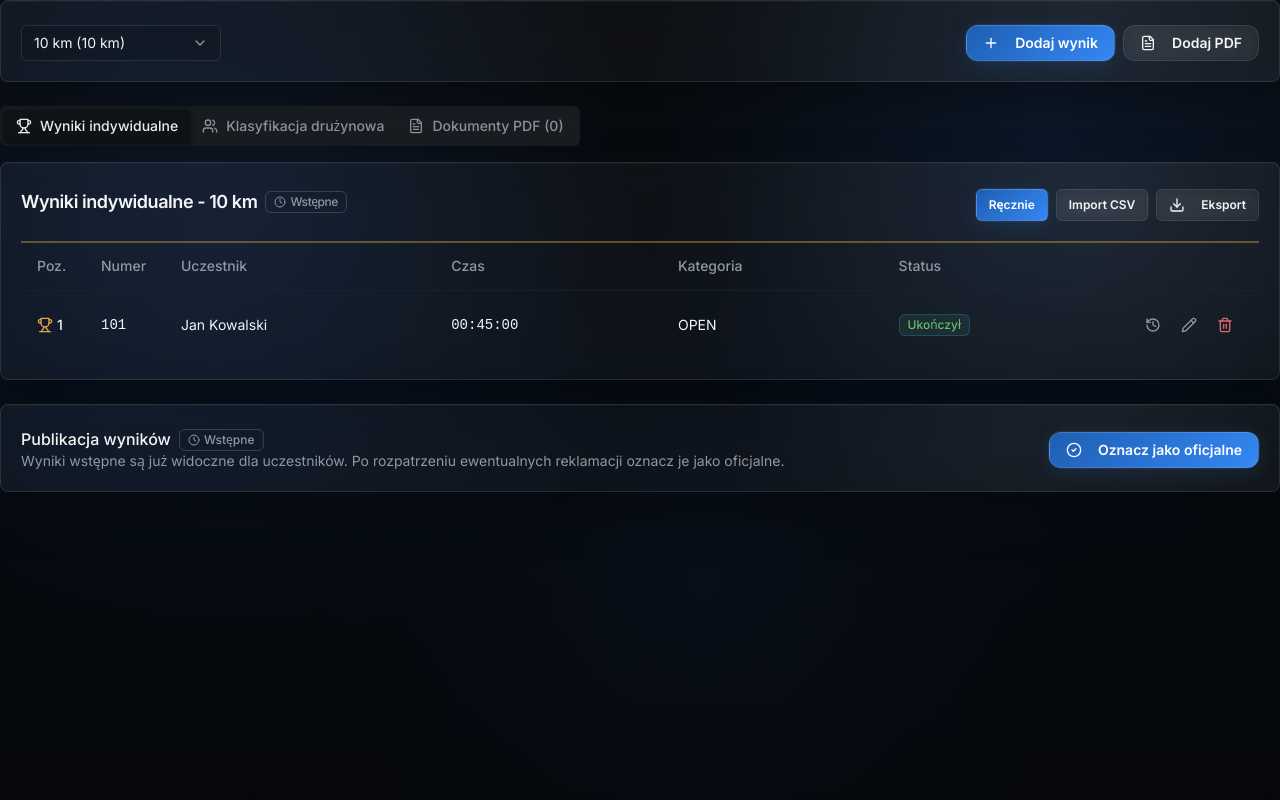
ResultsTab team classification › shows a guidance message instead of the classification for a non-relay distance
Click the tab "Klasyfikacja drużynowa" at (293,126), box [190,110,396,142]
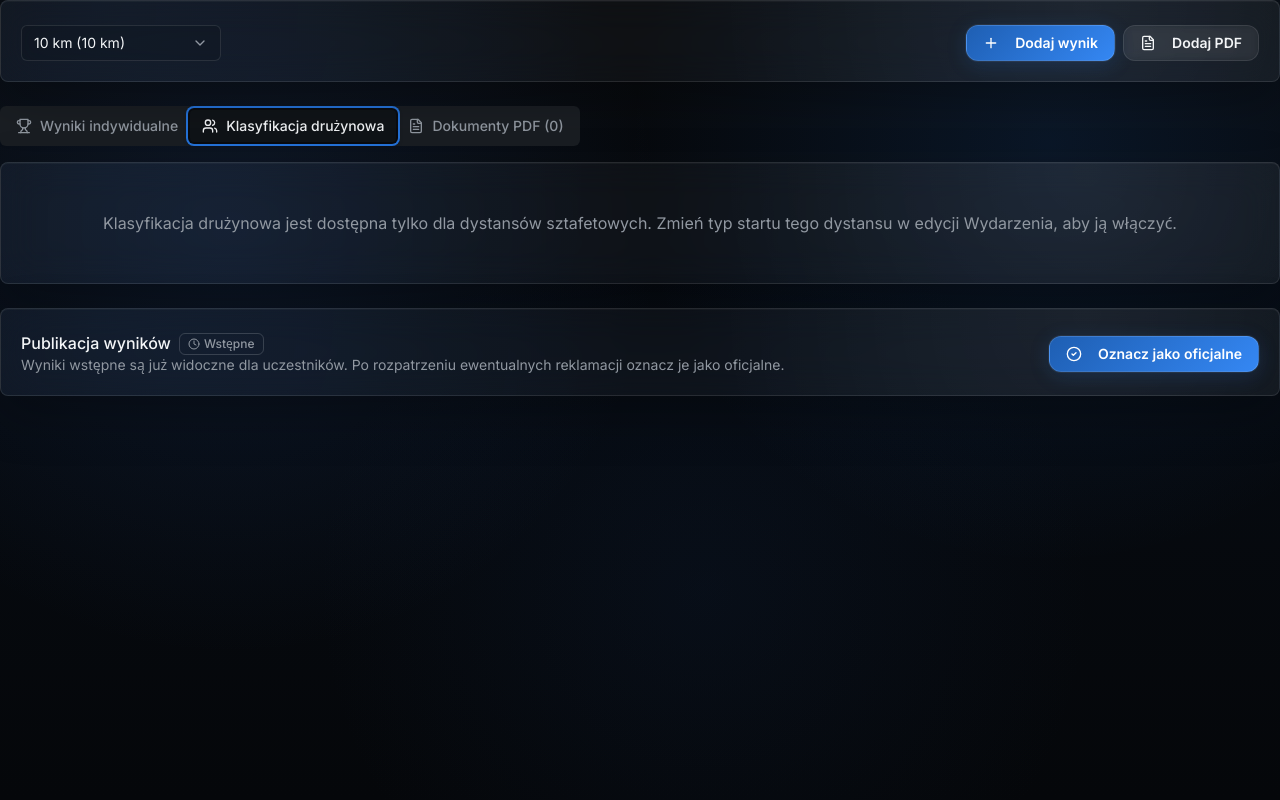
Now the text "dostępna tylko dla dystansów sztafetowych" is shown, box [103,213,1177,233]
